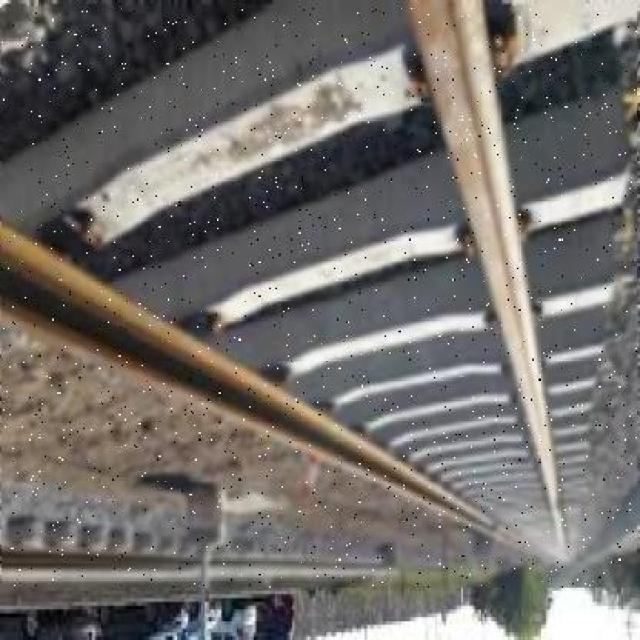rail: (2, 8, 637, 587)
